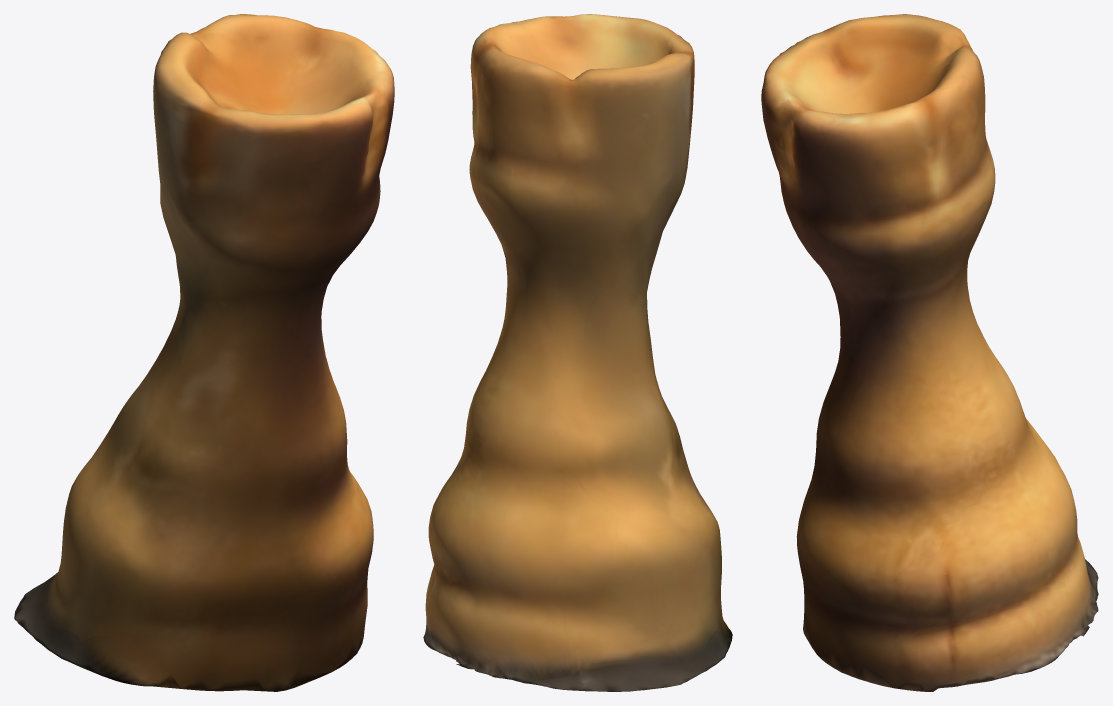
Rendered from candidate_a_top_q995.obj.
The picture shows the model from 3 angles, left to right: view 1: azimuth 30°, elevation 25°; view 2: azimuth 150°, elevation 25°; view 3: azimuth 270°, elevation 25°; orthographic projection. The views are drawn at different scales.
Parts seen in each view (by area): view 1: 3DModel; view 2: 3DModel; view 3: 3DModel.
Boxes of the visible parts, x1,y1,x2,y2 form: 3DModel: [14, 14, 394, 691]; 3DModel: [423, 14, 732, 691]; 3DModel: [761, 14, 1098, 691].
Bounding box in the file's own units: 0.1414 × 0.2741 × 0.1424.
1 material, 1 textured.
